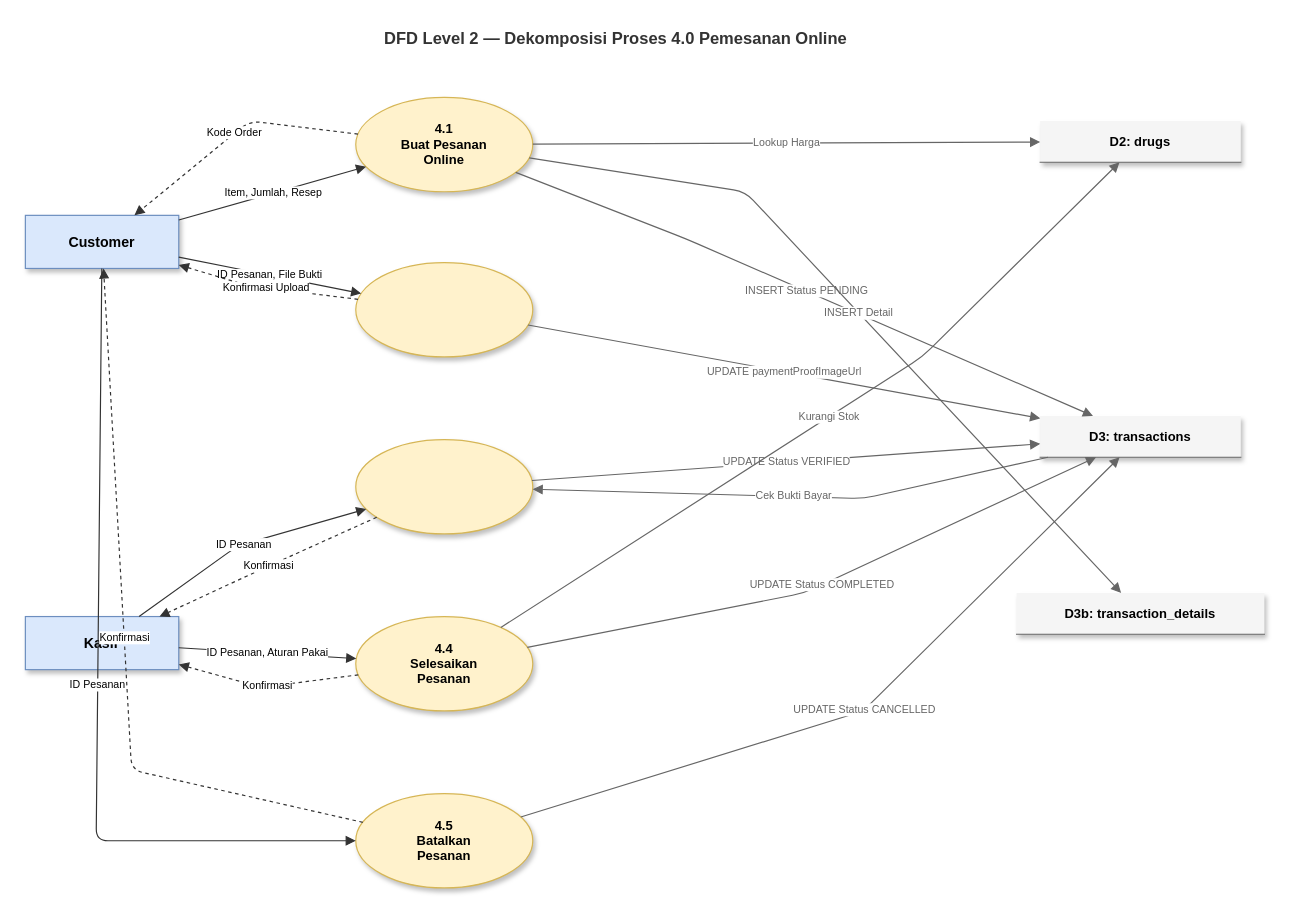
This 1292x917 diagram has some shape labels left out. The centre of each missing label's shape, as x and y in pixels:
4.2 Upload Bukti Pembayaran: (x=445, y=311)
4.3 Verifikasi Pembayaran: (x=445, y=488)
